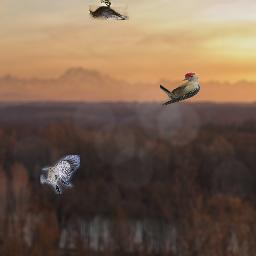Crow: (89, 0, 129, 20)
Woodpecker: (40, 155, 80, 194), (160, 72, 200, 107)
